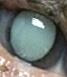eye: (4, 10, 63, 64)
